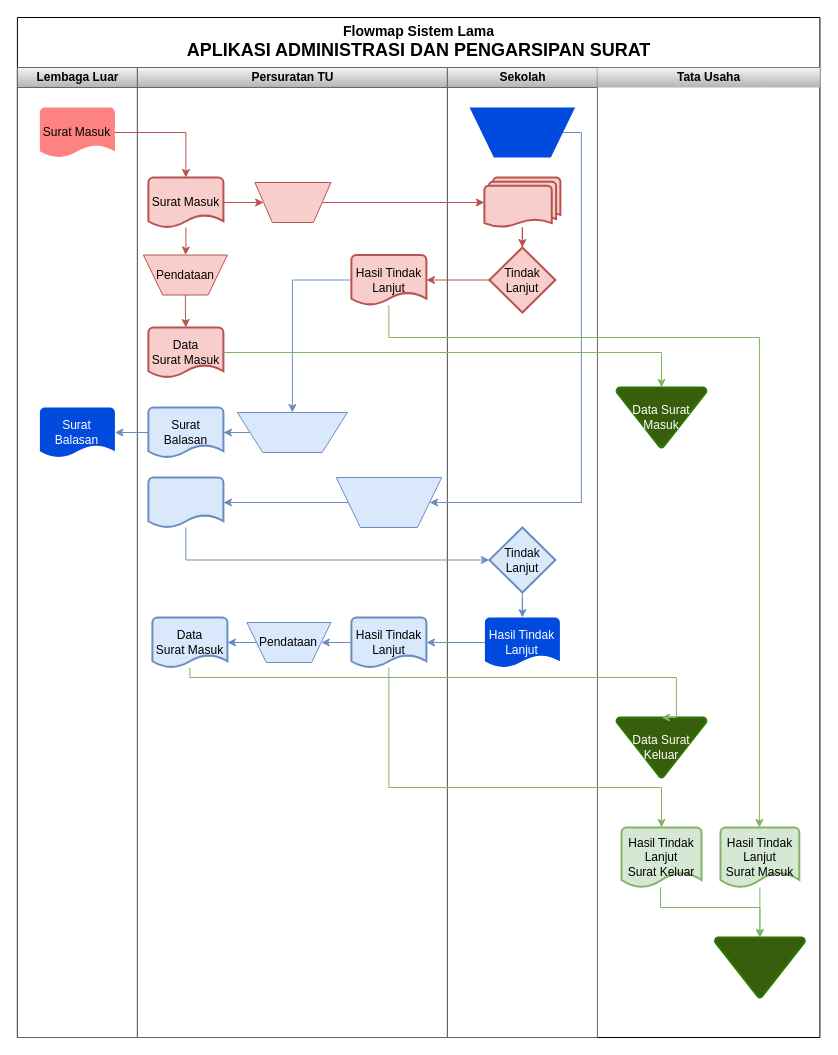
Some shapes in this 838 by 1055 pixel diagram are drawn without their labels. The centre of each missing label's shape, as x and y in pixels:
"Arsip Surat" belongs at [759,967].
"Disposisi" belongs at [292,202].
"Pembuatan Surat balasan" belongs at [291,432].
"Pembuatan Surat Keluar" belongs at [388,502].
"Permintaan Surat Keluar" belongs at [522,132].
"Surat Keluar" belongs at [185,502].
"Surat Masuk Disposisi" belongs at [522,202].
